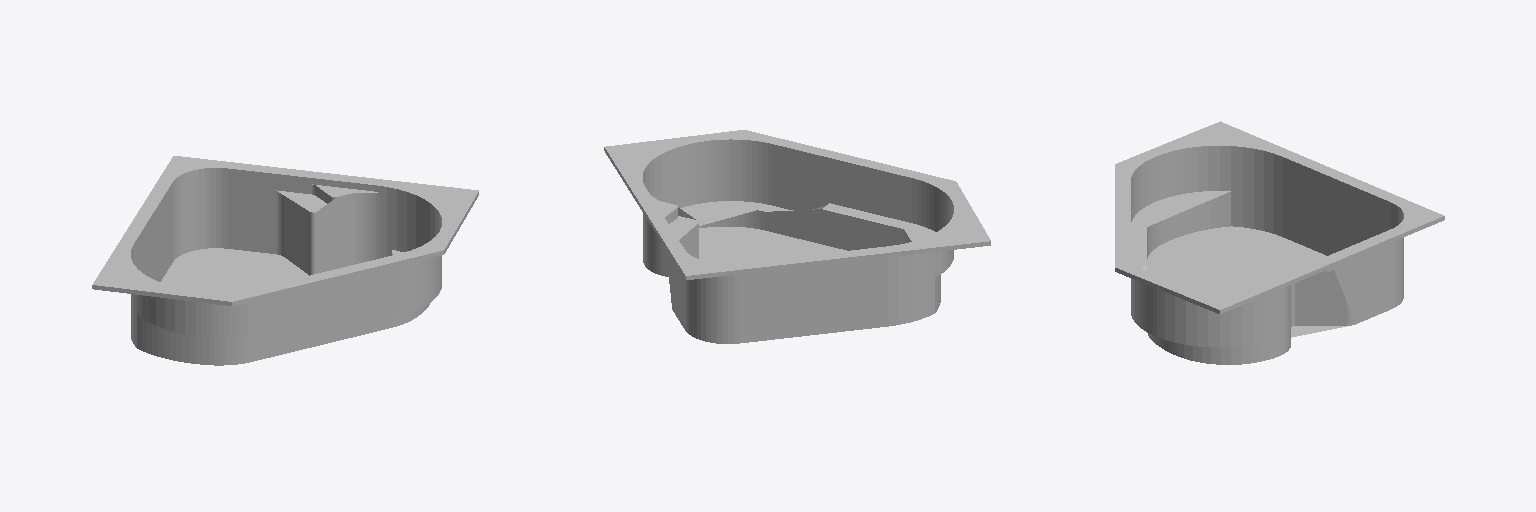
The model's file is MANTRA_BLANCA.obj.
3 renders of one model, left to right at view 1: azimuth 30°, elevation 25°; view 2: azimuth 150°, elevation 25°; view 3: azimuth 270°, elevation 25°, orthographic.
Visible parts, largest first — view 1: Mesh1 Group1 Model; view 2: Mesh1 Group1 Model; view 3: Mesh1 Group1 Model.
Boxes of the visible parts, x1=… form: Mesh1 Group1 Model: x1=92, y1=156, x2=478, y2=365; Mesh1 Group1 Model: x1=604, y1=130, x2=990, y2=343; Mesh1 Group1 Model: x1=1115, y1=121, x2=1444, y2=364.
Bounding box in the file's own units: 212 × 42 × 156.